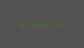five: (38, 20, 44, 27)
one: (52, 19, 58, 27), (59, 19, 65, 27)
seven: (24, 20, 30, 28)
six: (31, 20, 37, 28)
three: (17, 20, 23, 28)
two: (45, 19, 51, 27)
